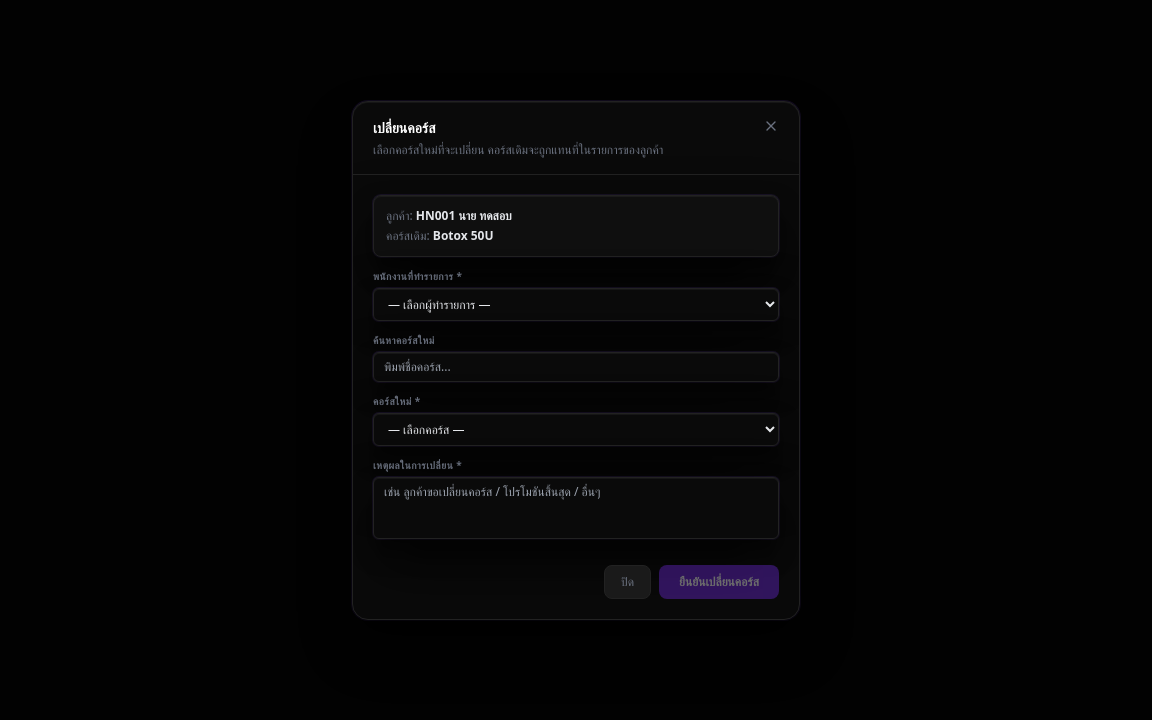
it: M3 ExchangeCourseModal › M3.5 error banner on backend failure
Select "X" in the dropdown with test id "exchange-course-picker" at x=576, y=429, box [373,412,779,446]
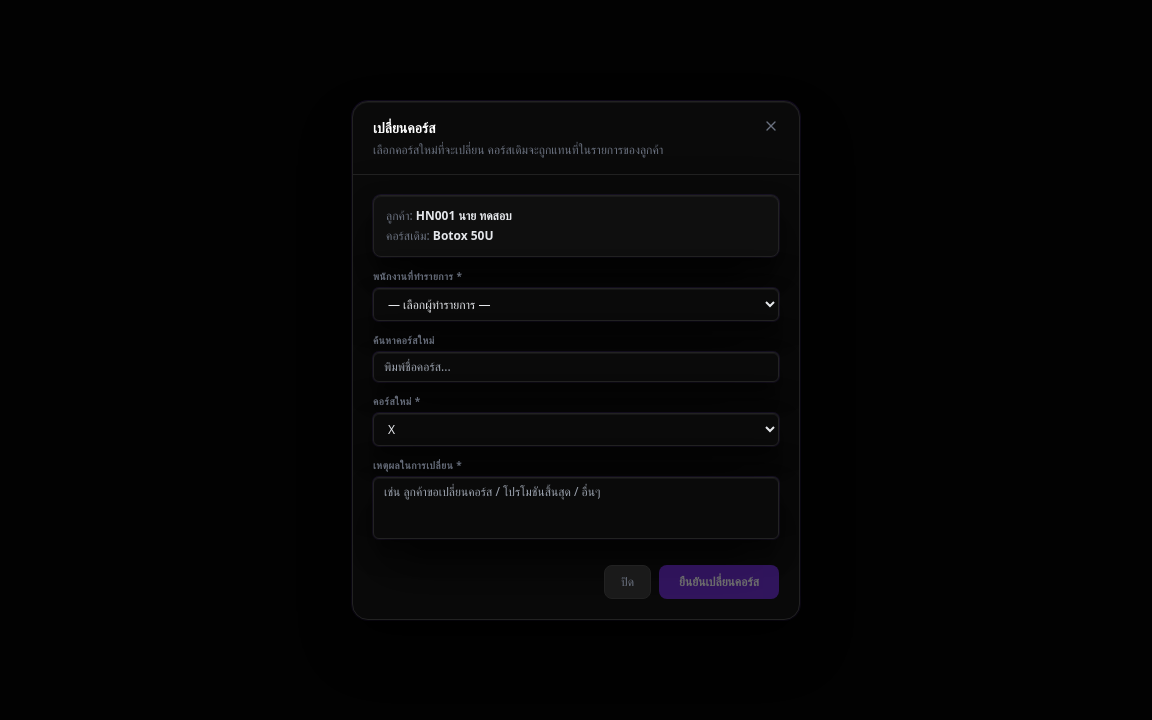
Type "r" into the text box with test id "exchange-course-reason" at x=576, y=508, box [373,476,779,538]
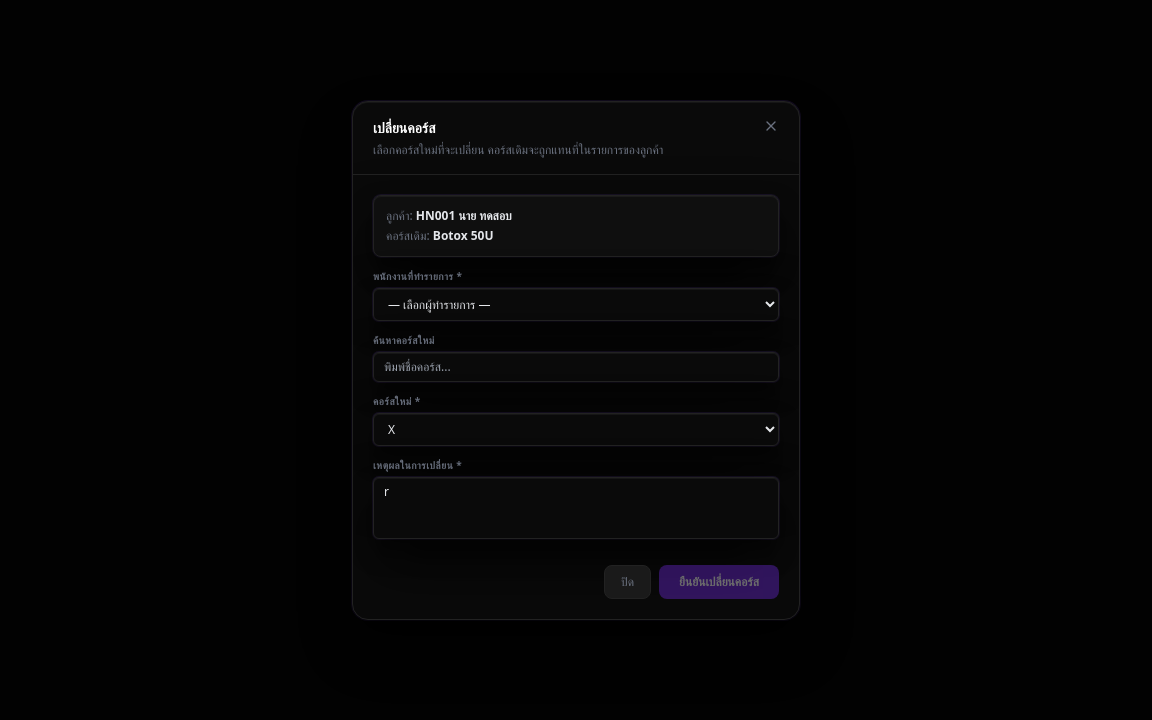
Select "นาง สมหญิง ใจดี" in the dropdown with test id "exchange-course-staff" at x=576, y=304, box [373,288,779,320]
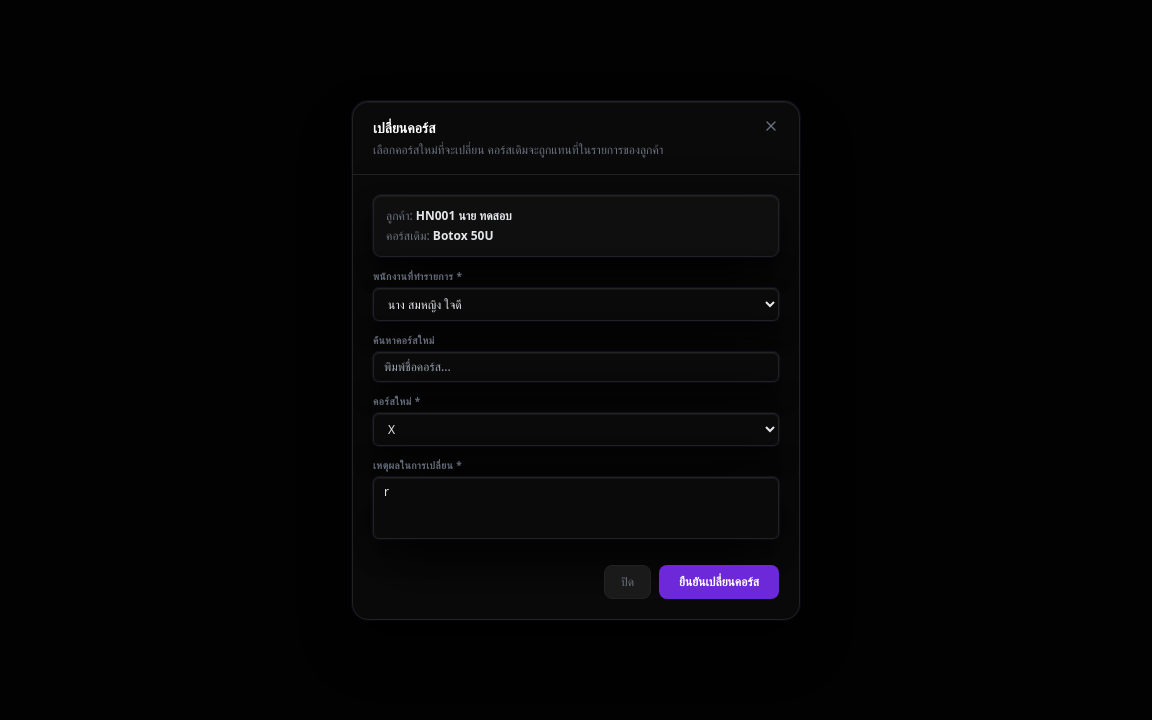
Click the button with test id "exchange-course-submit" at x=719, y=582, box [659,564,779,598]
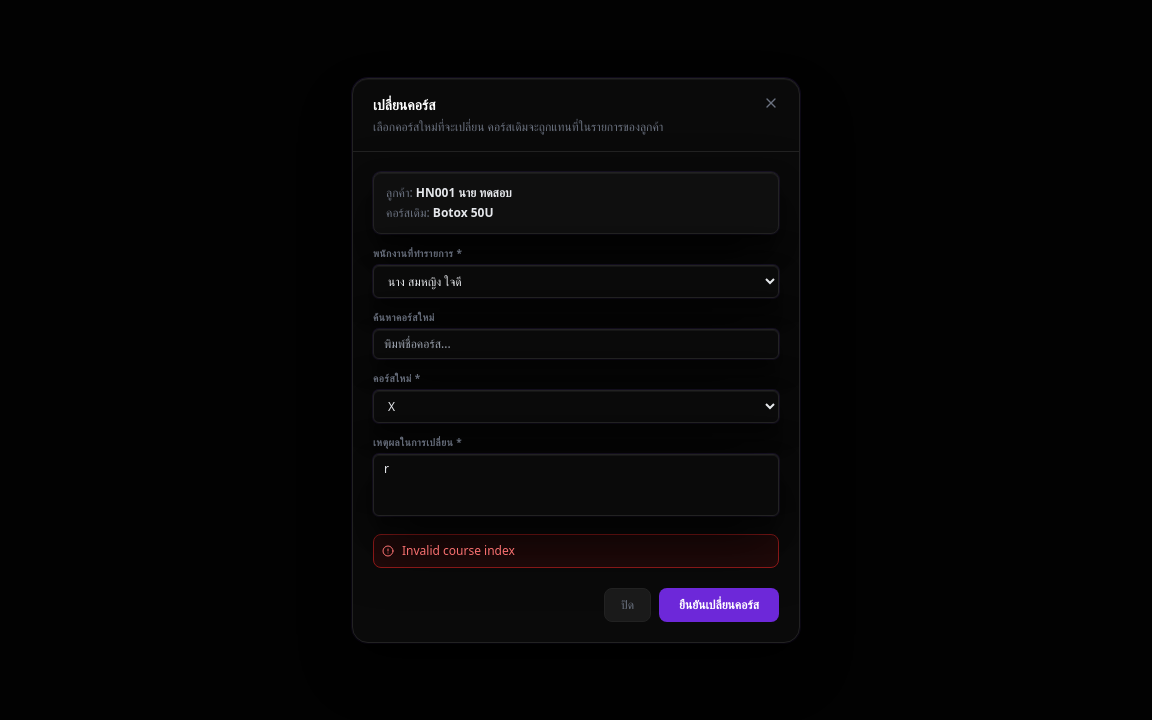
Expected: the element with test id "exchange-course-error" is shown, [373,534,779,568]
Expected: the element with test id "exchange-course-error" reads "Invalid course index", [402,542,515,558]
